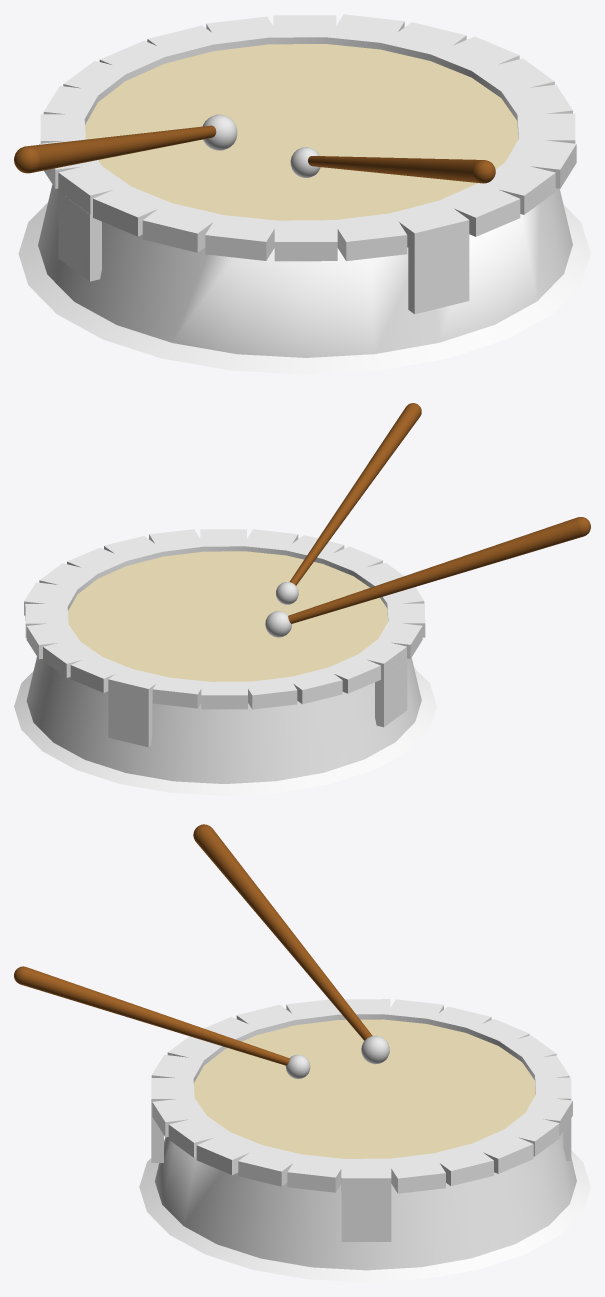
3 renders of one model, top to bottom at view 1: azimuth 30°, elevation 25°; view 2: azimuth 150°, elevation 25°; view 3: azimuth 270°, elevation 25°, orthographic. The views are drawn at different scales.
Parts seen in each view (by area): view 1: Layer0_001, SimpleSphere02_001, SimpleSphere02_002; view 2: Layer0_001, SimpleSphere02_001; view 3: Layer0_001, SimpleSphere02_001.
Boxes of the visible parts, x1,y1,x2,y2 form: Layer0_001: [14, 14, 590, 374]; SimpleSphere02_001: [202, 114, 237, 150]; SimpleSphere02_002: [290, 147, 320, 177]; Layer0_001: [14, 403, 590, 795]; SimpleSphere02_001: [265, 611, 291, 637]; Layer0_001: [14, 824, 590, 1282]; SimpleSphere02_001: [361, 1035, 389, 1064].
Size of the model in its own units: 1280 by 523 by 1269.
